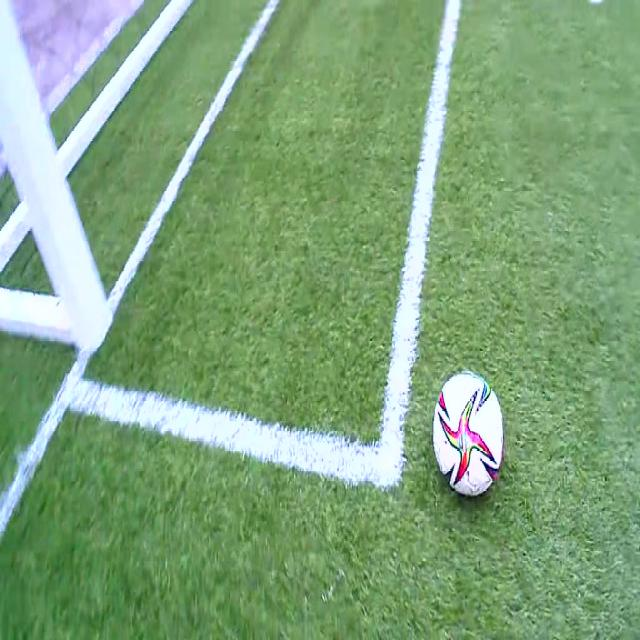ball: (432, 371, 503, 496)
